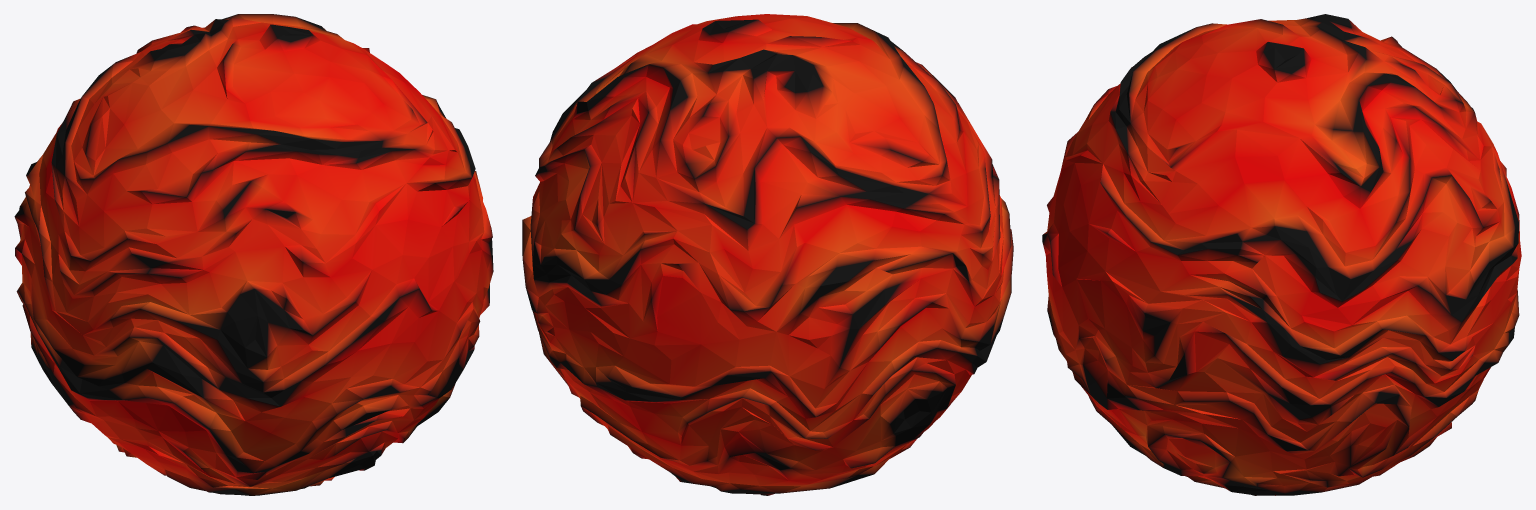
The model's file is volcanic_planet_13.fbx.
3 views of the same model, side by side, from view 1: azimuth 30°, elevation 25°; view 2: azimuth 150°, elevation 25°; view 3: azimuth 270°, elevation 25° (orthographic). The views are drawn at different scales.
Parts seen in each view (by area): view 1: filecache2; view 2: filecache2; view 3: filecache2.
Boxes of the visible parts, x1,y1,x2,y2 form: filecache2: (14,14,493,495); filecache2: (522,14,1013,495); filecache2: (1042,14,1521,495).
Bounding box in the file's own units: 2.04 × 2.08 × 2.03.
